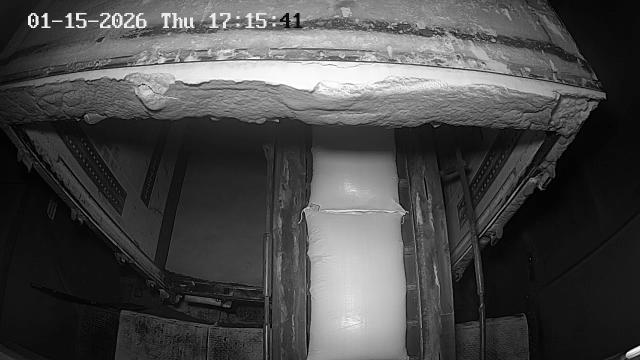bag: (304, 208, 407, 360), (312, 128, 404, 212)
